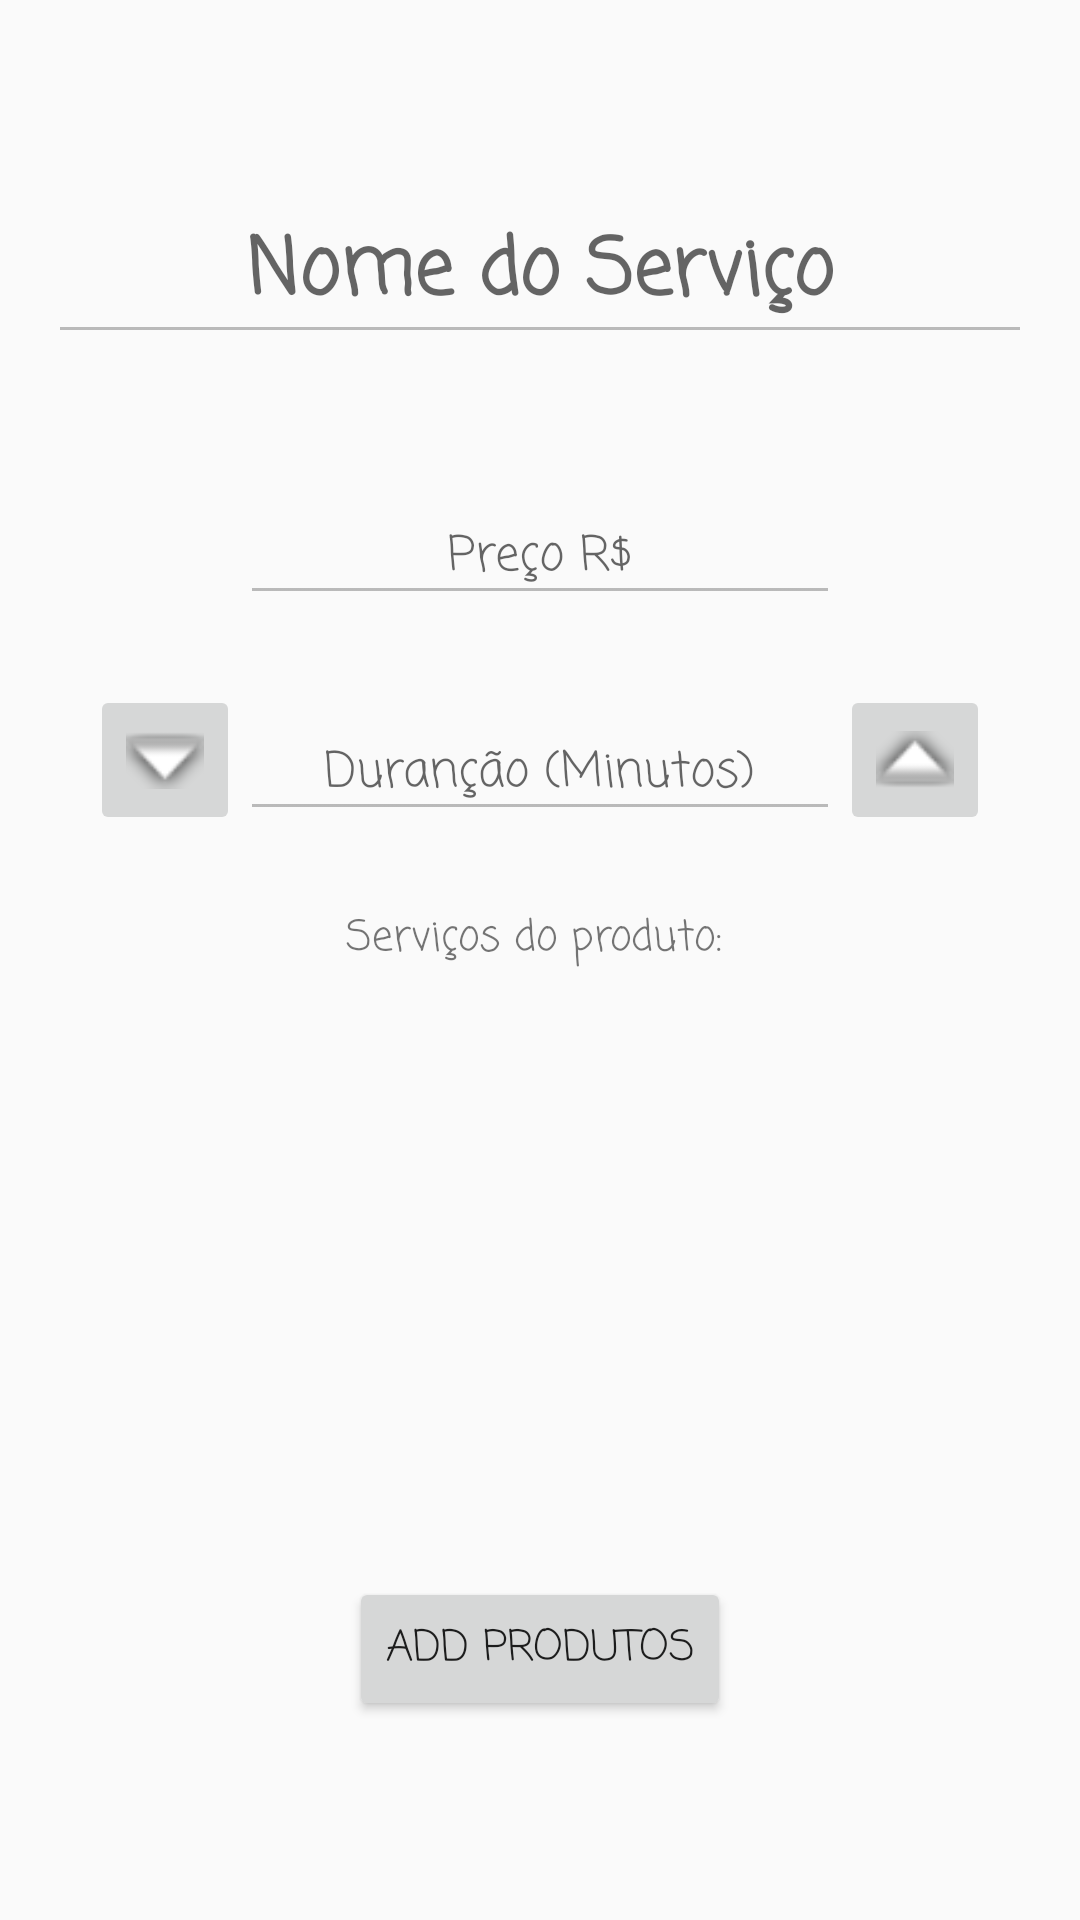

Icon bounding boxes for this 1080×1920 phone screenshot, format (x1, y1, x2, y2):
arrow down float: (102, 703, 228, 817)
arrow up float: (852, 703, 978, 817)
